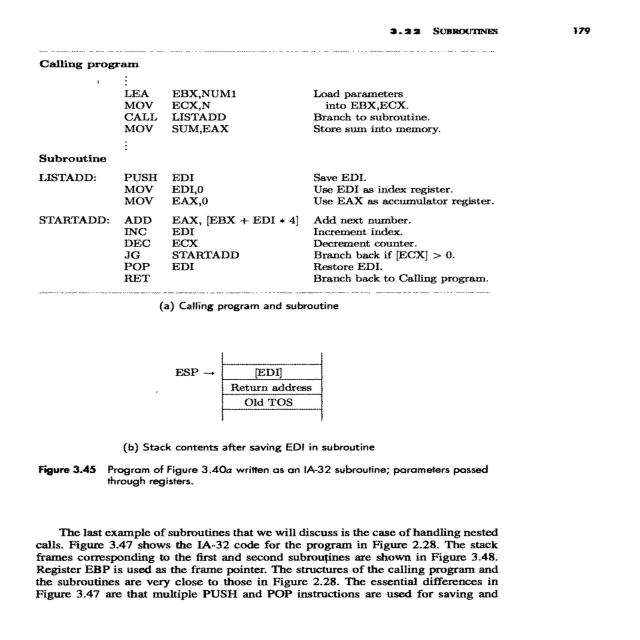diagram: (10, 348, 505, 494)
